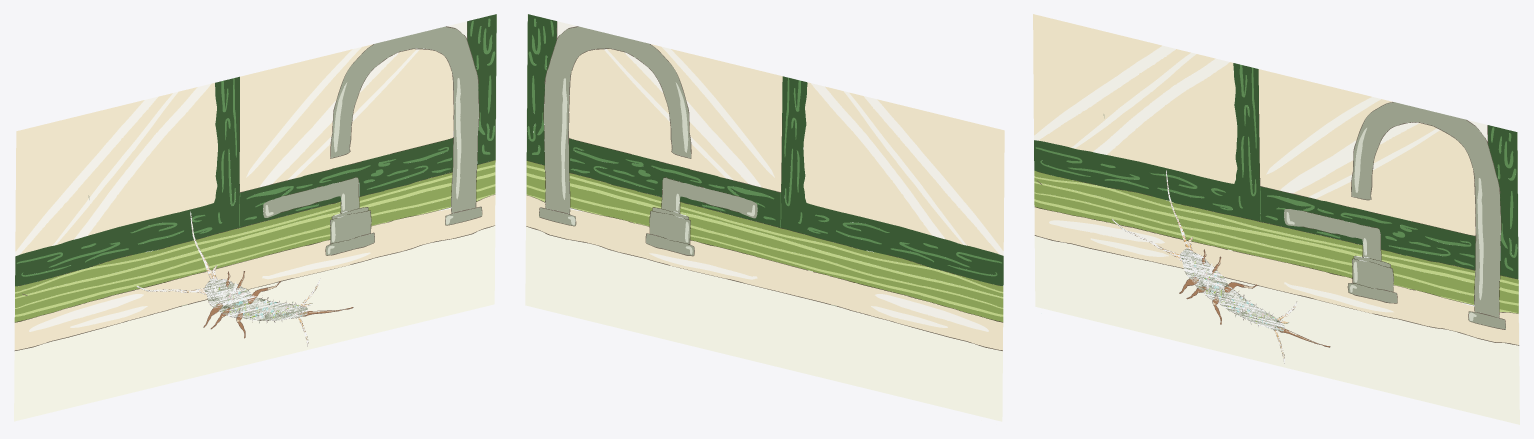
File: Silverfish.glb
3 views of the same model, side by side, from view 1: azimuth 30°, elevation 25°; view 2: azimuth 150°, elevation 25°; view 3: azimuth 330°, elevation 25° (orthographic).
Parts seen in each view (by area): view 1: n, n.004, n.113, n.005, n.158, n.154, n.006, n.090, n.131, n.007, n.008, n.197 (+26 smaller); view 2: n, n.004, n.113, n.005, n.158, n.154, n.006, n.090, n.131, n.007, n.008, n.009 (+24 smaller); view 3: n, n.004, n.113, n.005, n.158, n.154, n.006, n.090, n.131, n.007, n.197, n.008 (+26 smaller).
Boxes of the visible parts, <box> form: n: <box>14,226,495,421</box>; n.004: <box>14,194,495,350</box>; n.113: <box>15,76,239,286</box>; n.005: <box>88,83,217,235</box>; n.158: <box>295,49,453,178</box>; n.154: <box>239,44,372,191</box>; n.006: <box>15,100,144,251</box>; n.090: <box>330,26,478,213</box>; n.131: <box>240,138,453,227</box>; n.007: <box>20,93,172,254</box>; n.008: <box>467,14,496,164</box>; n.197: <box>136,211,320,346</box>; n: <box>525,226,1002,421</box>; n.004: <box>526,195,1003,350</box>; n.113: <box>780,76,1003,285</box>; n.005: <box>803,82,931,235</box>; n.158: <box>569,49,726,178</box>; n.154: <box>651,44,782,191</box>; n.006: <box>877,99,1004,250</box>; n.090: <box>544,26,690,213</box>; n.131: <box>569,138,780,227</box>; n.007: <box>849,92,999,254</box>; n.008: <box>526,14,556,164</box>; n.009: <box>689,217,1003,307</box>; n: <box>1034,236,1519,424</box>; n.004: <box>1034,207,1518,344</box>; n.113: <box>1034,63,1260,221</box>; n.005: <box>1107,62,1237,183</box>; n.158: <box>1316,130,1475,235</box>; n.154: <box>1258,69,1392,190</box>; n.006: <box>1033,14,1161,135</box>; n.090: <box>1351,102,1500,317</box>; n.131: <box>1260,186,1475,269</box>; n.007: <box>1038,49,1190,147</box>; n.197: <box>1112,170,1296,363</box>; n.008: <box>1487,125,1518,278</box>.
Size of the model in its own units: 3 by 1.77 by 0.2567.
